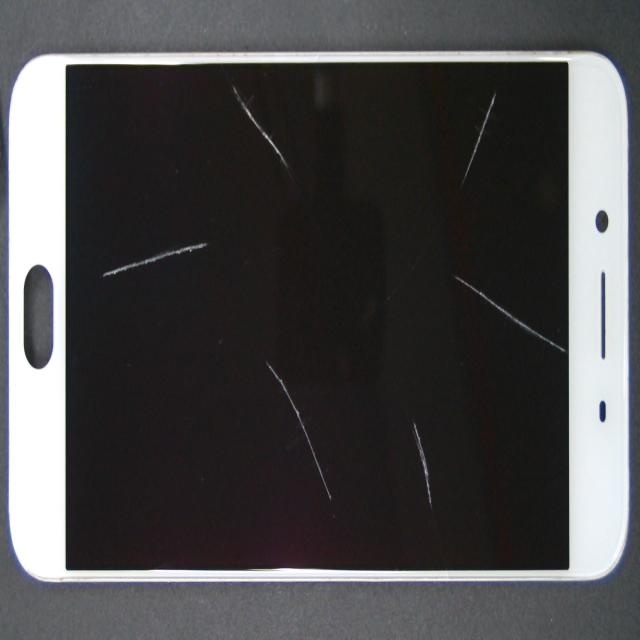scratch: (236, 298, 640, 640), (216, 343, 486, 640), (351, 211, 640, 464), (237, 115, 640, 261), (125, 13, 344, 145), (171, 85, 272, 346)
